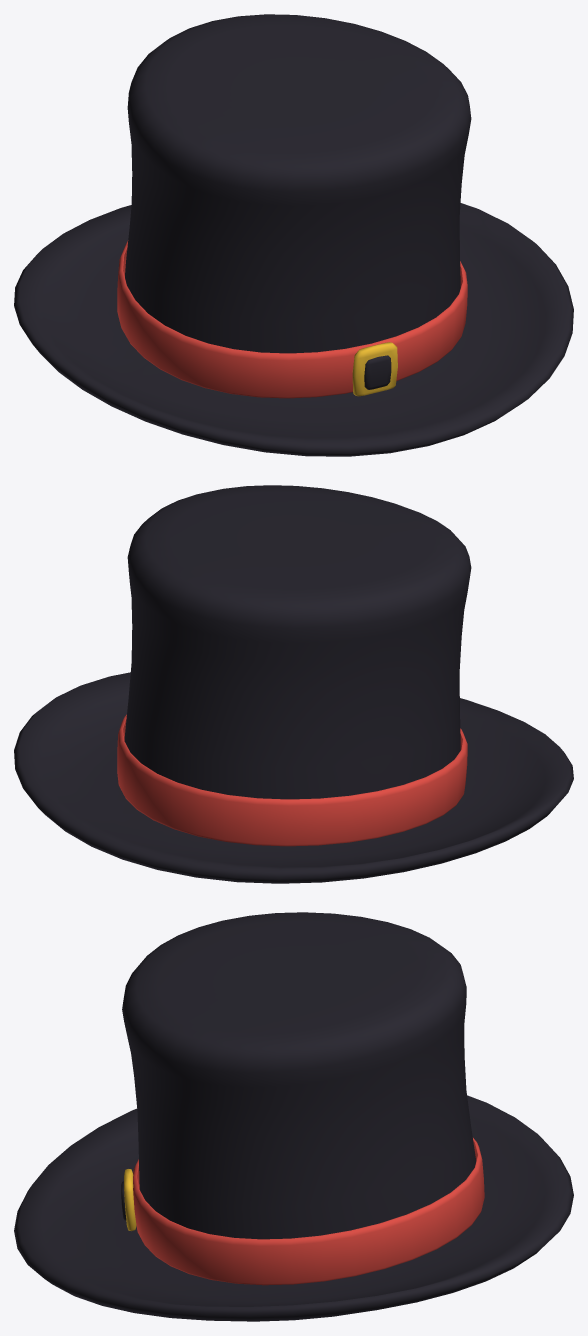
Rendered from hat_top_hat.glb.
3 renders of one model, top to bottom at view 1: azimuth 30°, elevation 25°; view 2: azimuth 150°, elevation 25°; view 3: azimuth 270°, elevation 25°, orthographic.
Visible parts, largest first — view 1: HatTopHat; view 2: HatTopHat; view 3: HatTopHat.
Boxes of the visible parts, x1=… form: HatTopHat: x1=14, y1=14, x2=573, y2=456; HatTopHat: x1=14, y1=485, x2=573, y2=883; HatTopHat: x1=14, y1=912, x2=573, y2=1321.
Size of the model in its own units: 0.856 by 0.4556 by 0.8539.
